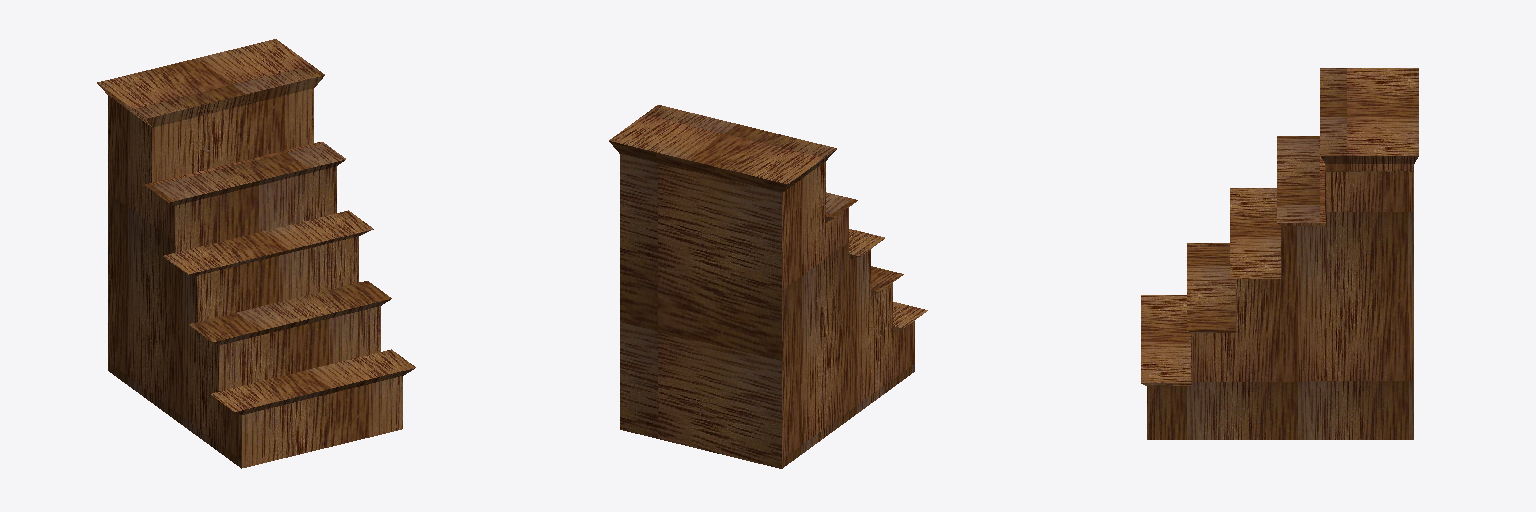
3 views of the same model, side by side, from view 1: azimuth 30°, elevation 25°; view 2: azimuth 150°, elevation 25°; view 3: azimuth 270°, elevation 25° (orthographic).
Parts seen in each view (by area): view 1: Cube; view 2: Cube; view 3: Cube.
Part boxes in pixels (bbox=[...]): Cube: bbox=[97, 39, 415, 468]; Cube: bbox=[609, 105, 927, 468]; Cube: bbox=[1141, 68, 1418, 439].
Bounding box in the file's own units: 1.47 × 2.18 × 1.9.
Materials: 1 (1 with a texture image).